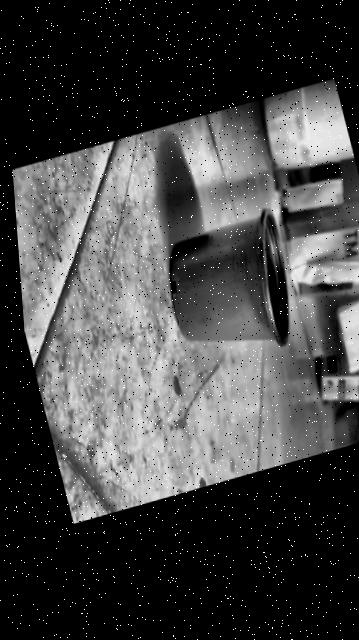pot: (153, 204, 305, 375)
